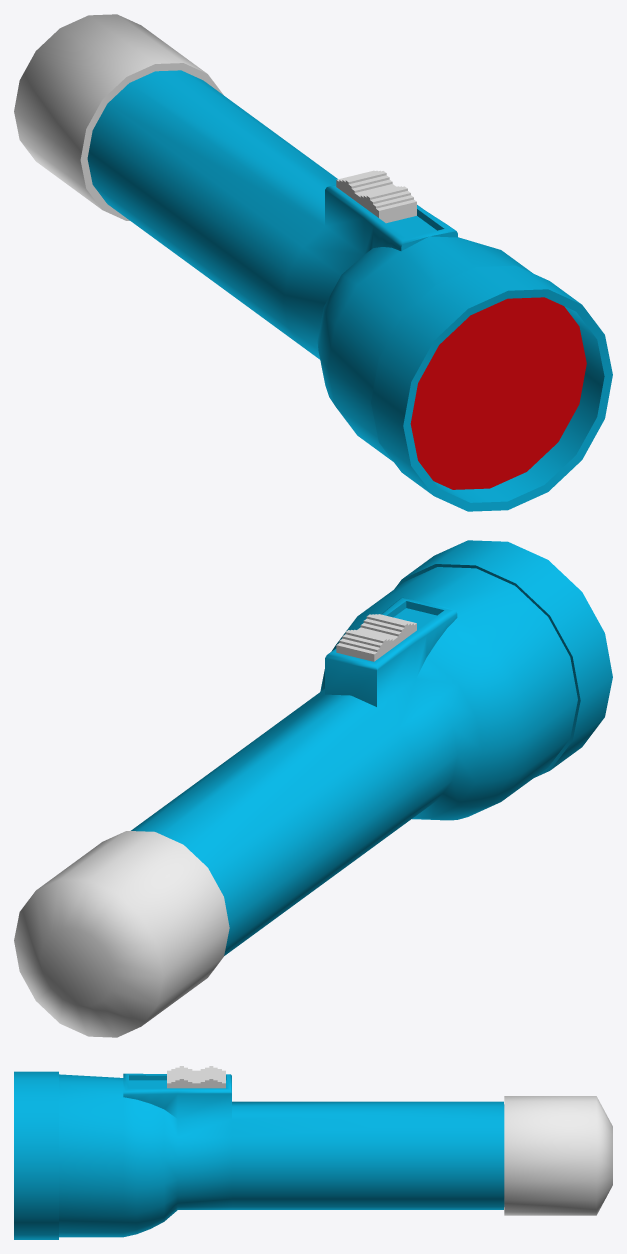
File: zaklamp.fbx
The picture shows the model from 3 angles, top to bottom: view 1: azimuth 30°, elevation 25°; view 2: azimuth 150°, elevation 25°; view 3: azimuth 270°, elevation 25°; orthographic projection. The views are drawn at different scales.
Parts seen in each view (by area): view 1: Cylinder, Cylinder.002, Cube; view 2: Cylinder, Cylinder.002, Cube; view 3: Cylinder, Cylinder.002, Cube.
Part boxes in pixels (<box>): Cylinder: <box>87,70,612,511</box>; Cylinder.002: <box>14,14,223,220</box>; Cube: <box>336,170,416,223</box>; Cylinder: <box>131,540,612,955</box>; Cylinder.002: <box>14,831,229,1037</box>; Cube: <box>336,614,416,661</box>; Cylinder: <box>14,1071,504,1239</box>; Cylinder.002: <box>504,1096,612,1215</box>; Cube: <box>167,1066,225,1088</box>.
Bounding box in the file's own units: 0.0462 × 0.0483 × 0.1645.
